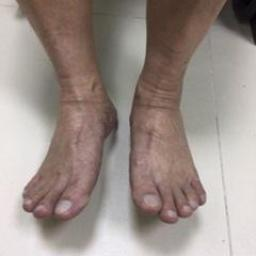Front View -Both Feet-: (16, 42, 219, 232)
